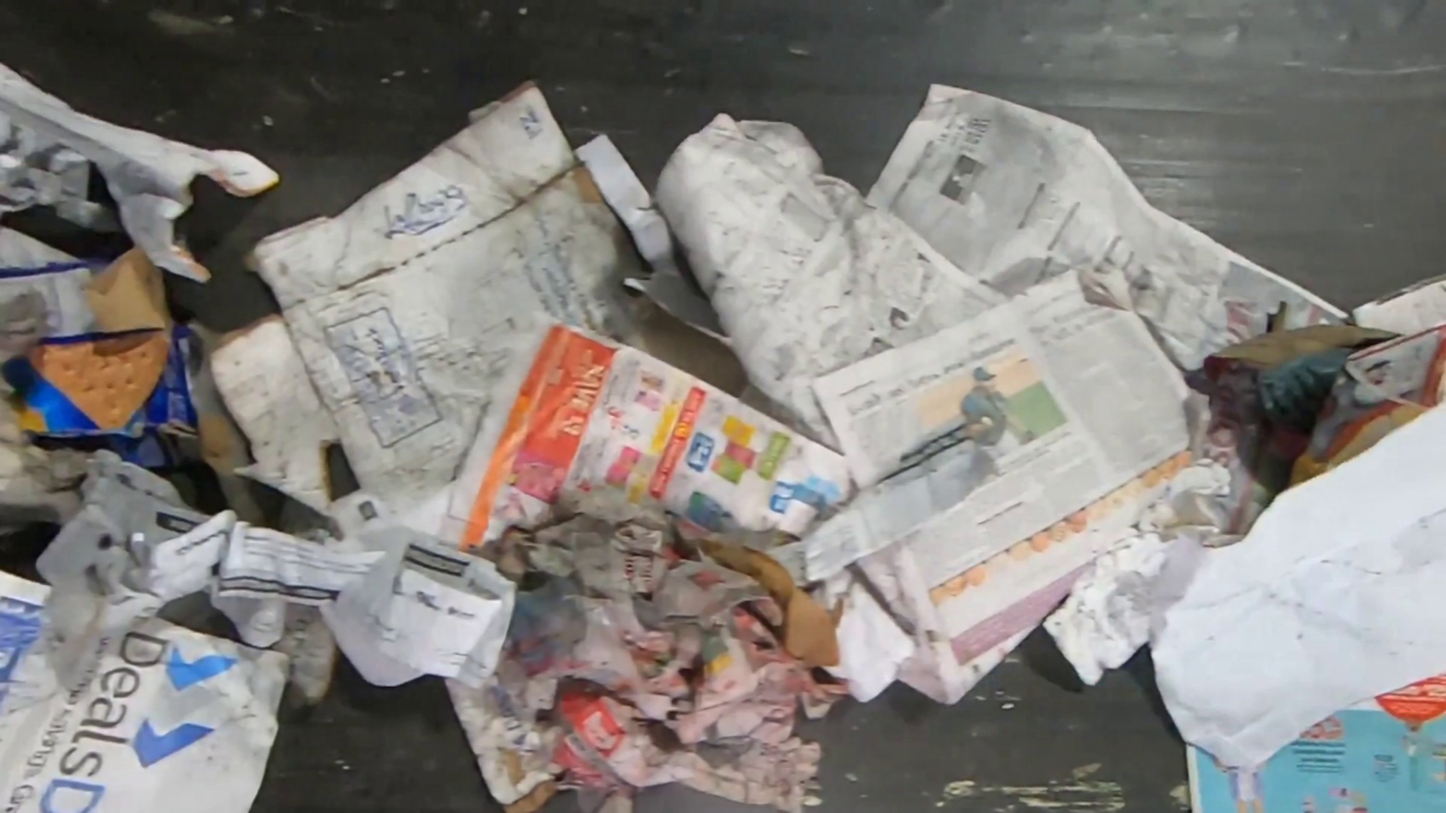cardboard: (203, 76, 747, 518), (0, 243, 204, 470)
